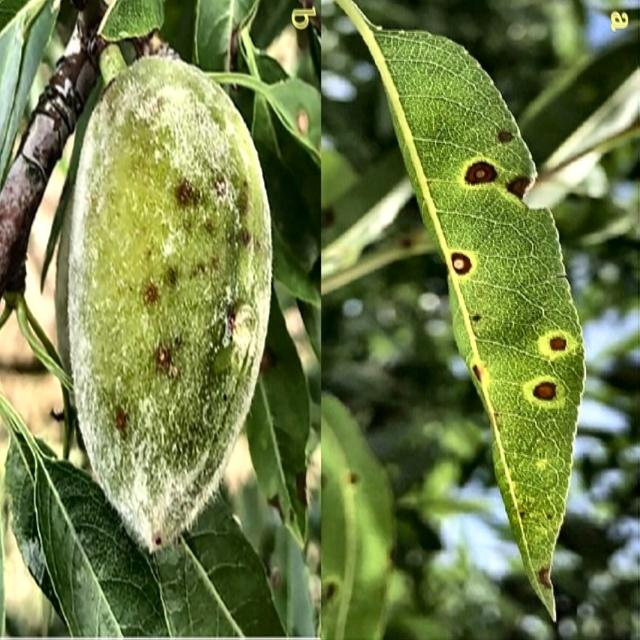leaf_spot: (376, 14, 596, 638), (58, 42, 278, 574)
